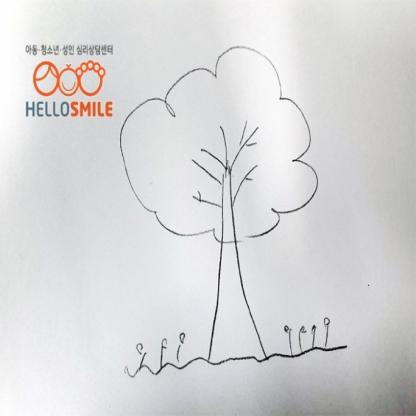branch_line: (186, 117, 262, 212)
crown_cloud: (117, 50, 322, 242)
root_none: (193, 340, 281, 380)
trunk_straight: (200, 247, 274, 334)
